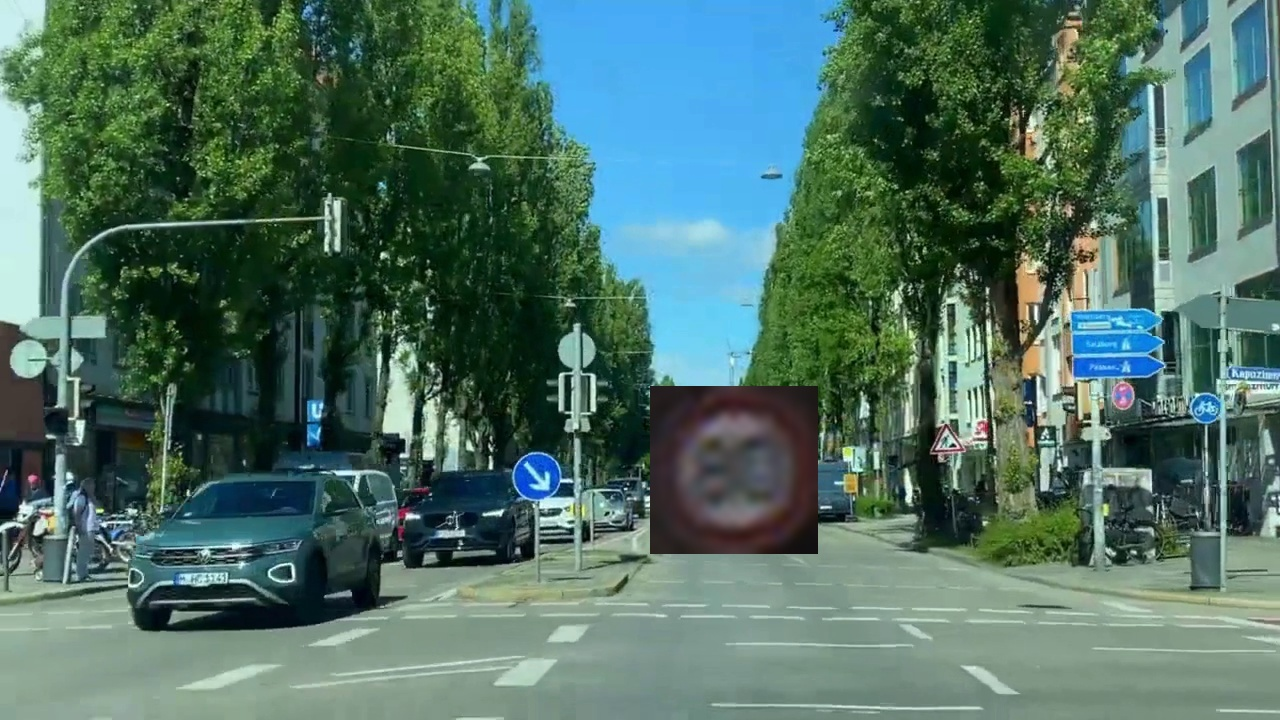Speed 80: (650, 386, 818, 554)
